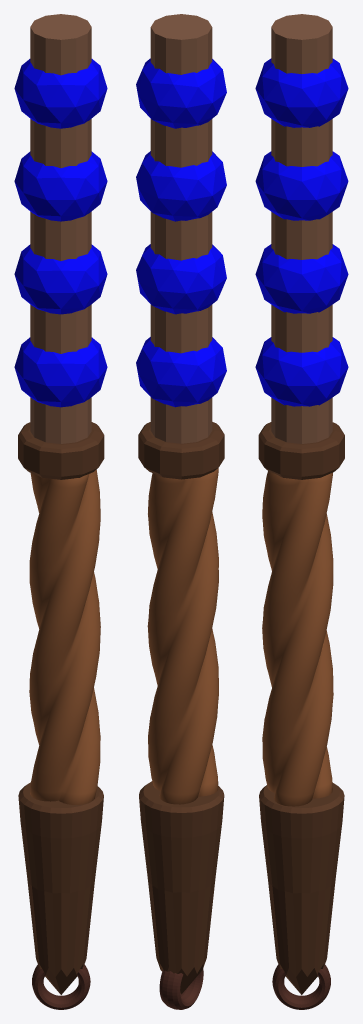
File: Wand 831.glb
3 views of the same model, side by side, from view 1: azimuth 90°, elevation 25°; view 2: azimuth 150°, elevation 25°; view 3: azimuth 270°, elevation 25° (orthographic).
Visible parts, largest first — view 1: GeneratedWand; view 2: GeneratedWand; view 3: GeneratedWand.
Boxes of the visible parts, x1=… form: GeneratedWand: x1=14, y1=14, x2=107, y2=1009; GeneratedWand: x1=136, y1=14, x2=226, y2=1009; GeneratedWand: x1=255, y1=14, x2=348, y2=1009.
Bounding box in the file's own units: 0.0407 × 0.4983 × 0.0428.
